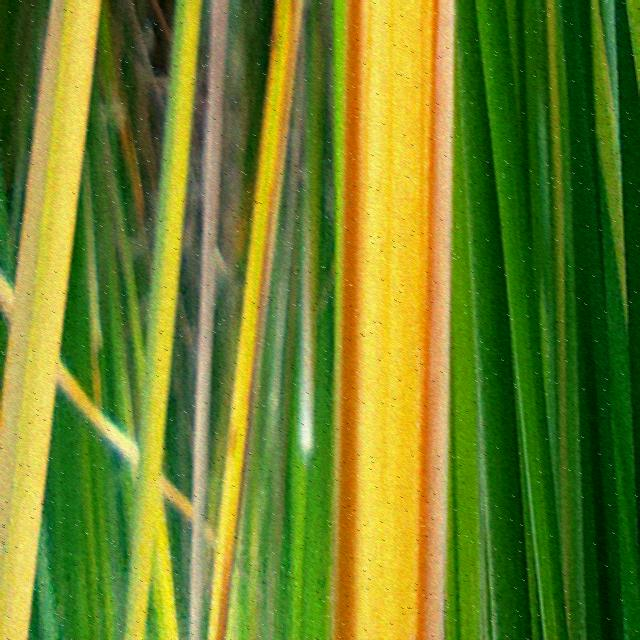BLB: (415, 0, 454, 639), (333, 0, 362, 640)
